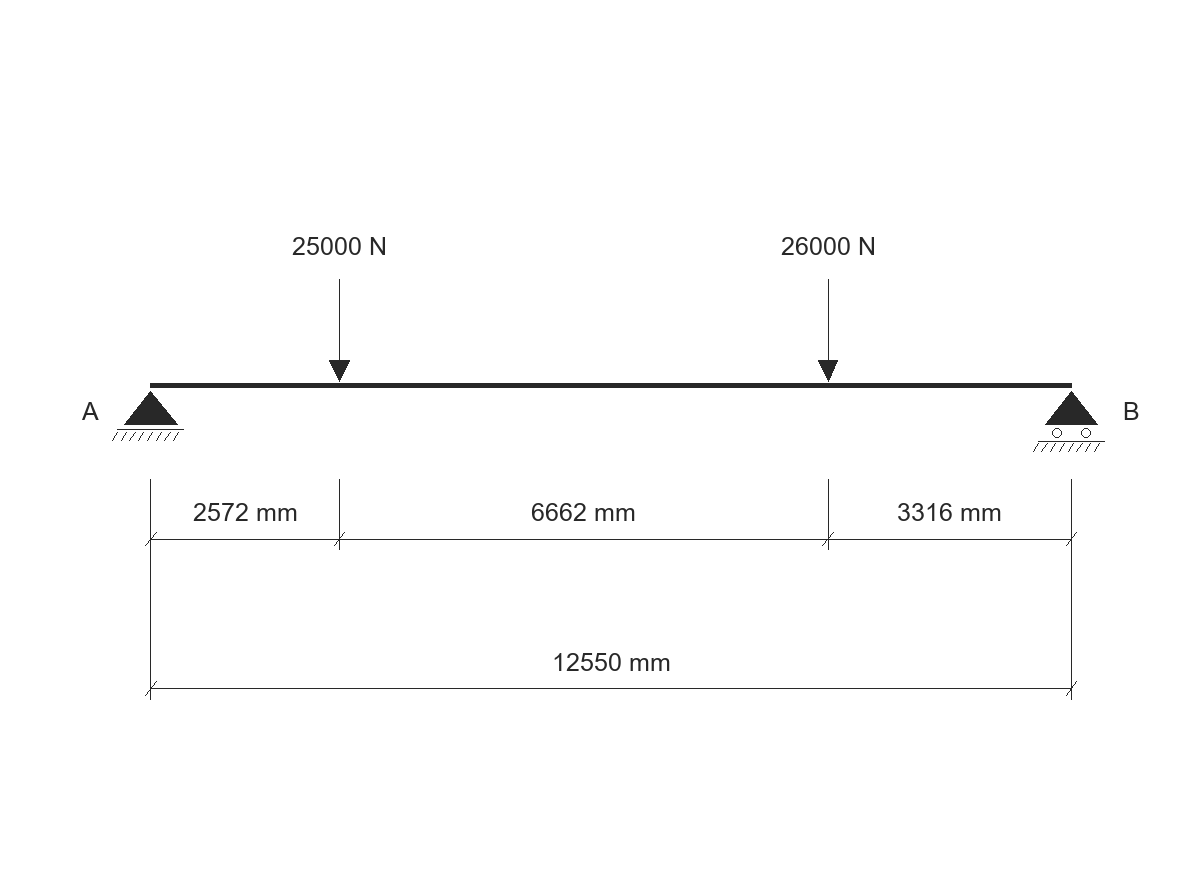pin_support: (112, 391, 184, 441)
point_load: (329, 279, 350, 382), (818, 279, 838, 382)
roller_support: (1033, 391, 1105, 452)
